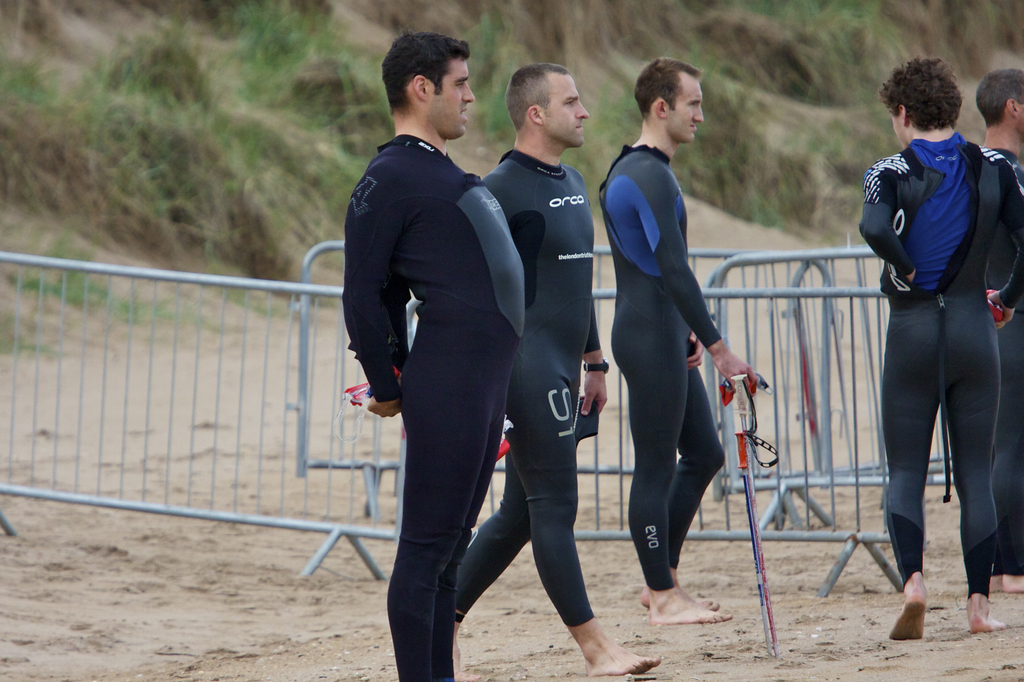Person: (341, 25, 1024, 682)
